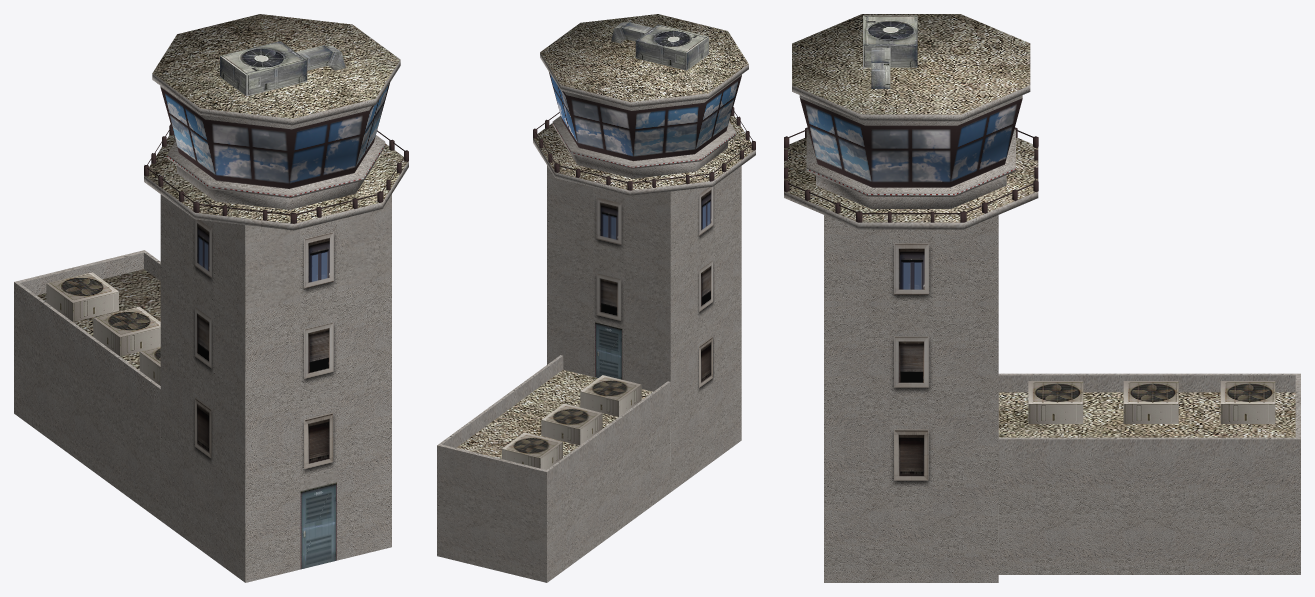
The model's file is airtower.dae.
The picture shows the model from 3 angles, left to right: view 1: azimuth 30°, elevation 25°; view 2: azimuth 150°, elevation 25°; view 3: azimuth 270°, elevation 25°; orthographic projection. The views are drawn at different scales.
Parts seen in each view (by area): view 1: Cube; view 2: Cube; view 3: Cube.
Boxes of the visible parts, x1,y1,x2,y2 form: Cube: (14,14,408,582); Cube: (437,14,755,582); Cube: (784,14,1300,582).
Size of the model in its own units: 14.42 by 31.48 by 29.28.
